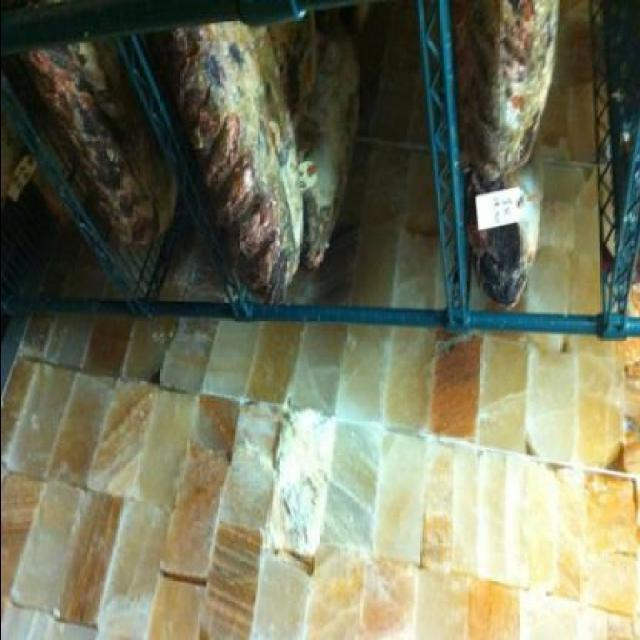Steak: (195, 18, 342, 300), (448, 3, 566, 182)
